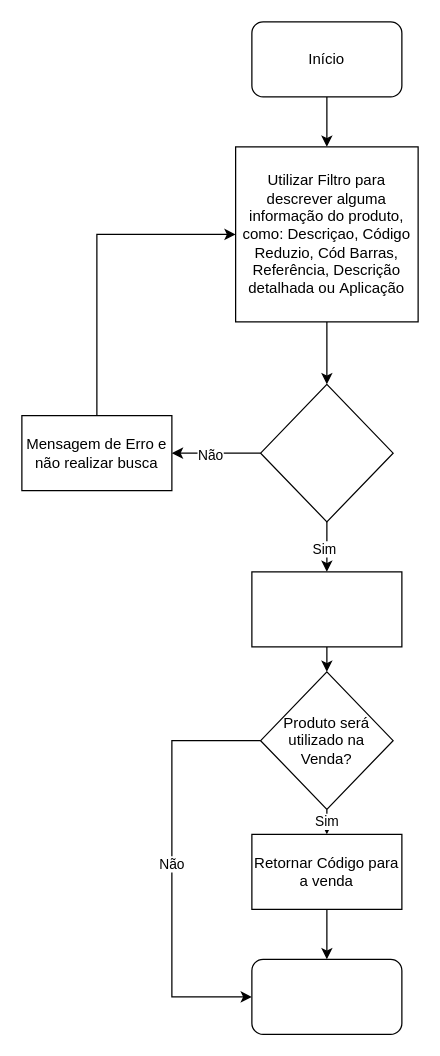
Image size: 440x1056. Some labels were removed from this diagram. Here are the shapes that lost their labels. From the top down, the centre of each, then its label:
(326,452): Texto tem no mínimo 3 caractéres?
(326,609): Realizar Busca
(326,996): Fim
